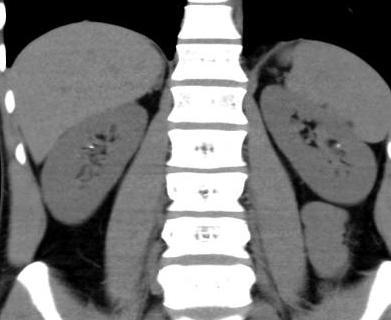Tas_Var: (335, 143, 343, 149), (89, 144, 95, 150)
